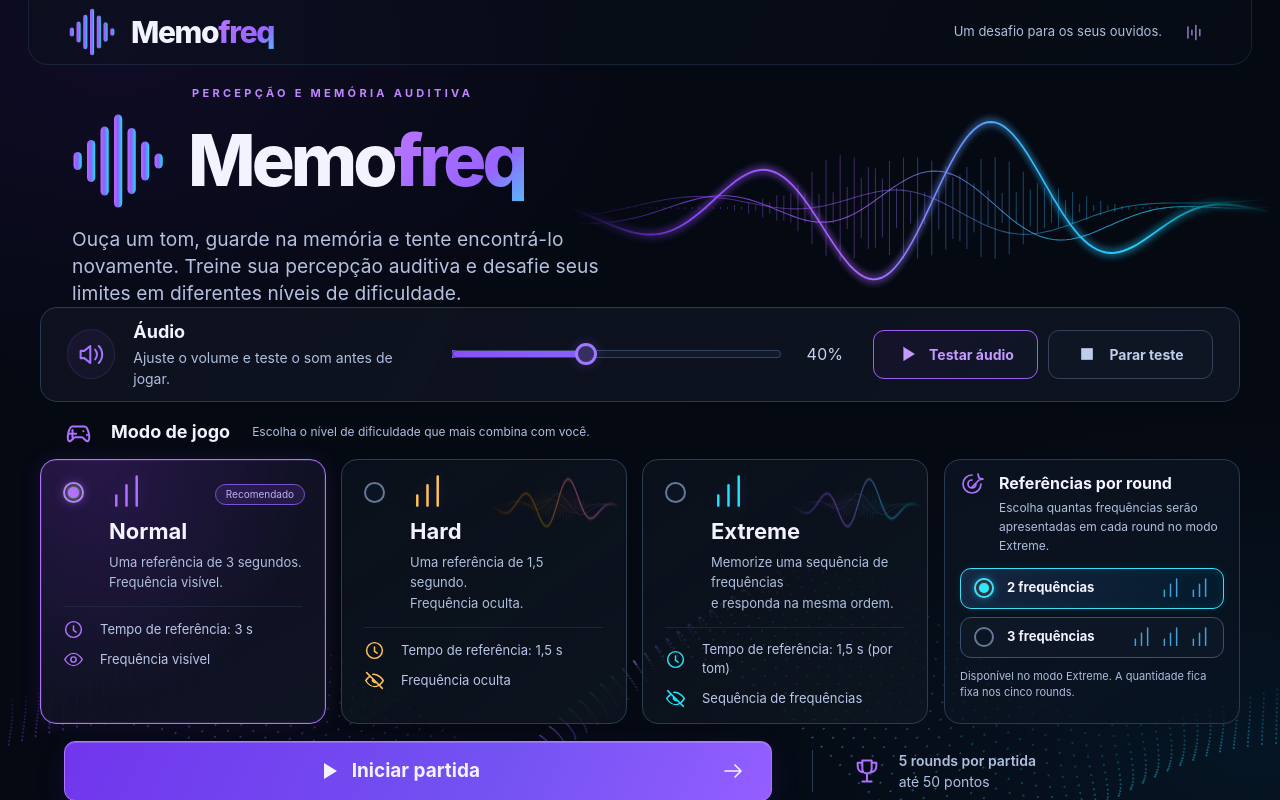
Test case: Normal Mode integrado › funciona com StrictMode e cancela áudio ao desmontar
Click the button "Iniciar partida" at (418, 771), box [64, 741, 772, 799]
Wait 3000 ms
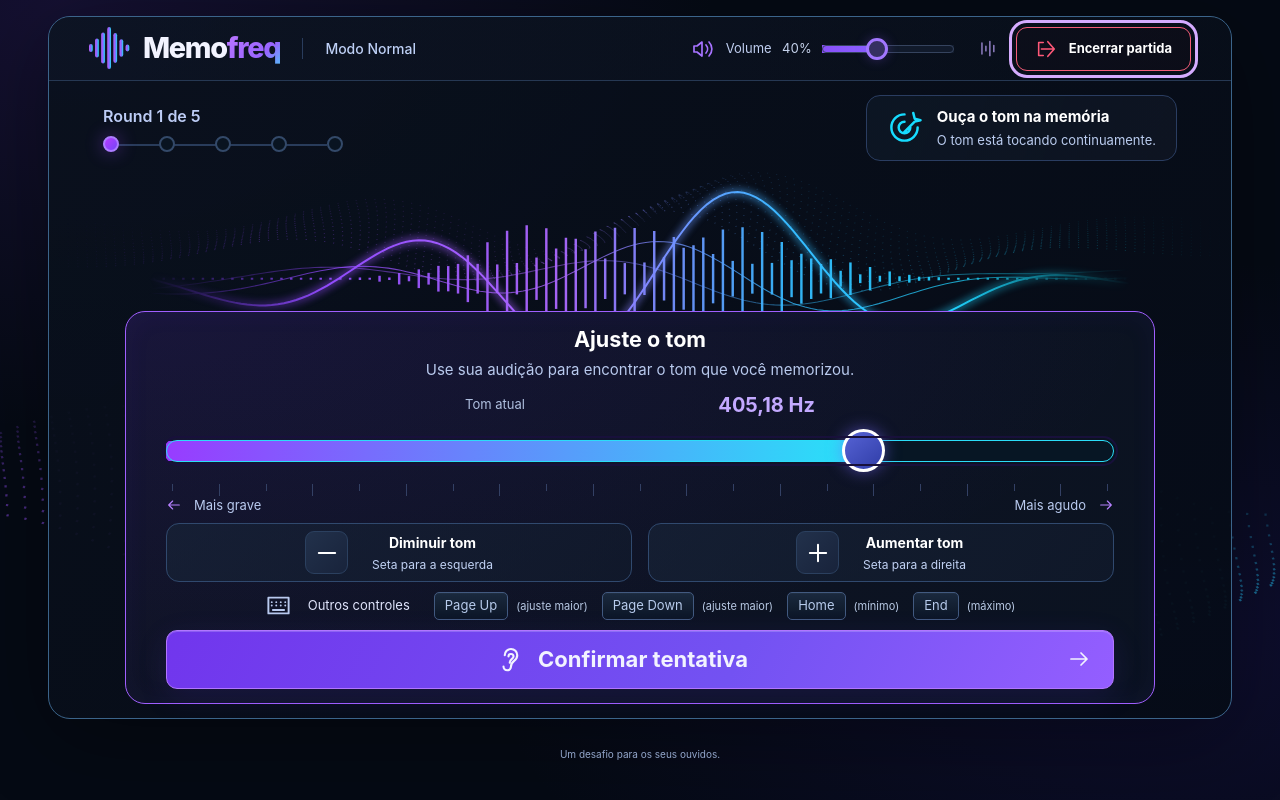
Check: the slider named "Ajustar tom" is enabled, box [166, 424, 1114, 478]
